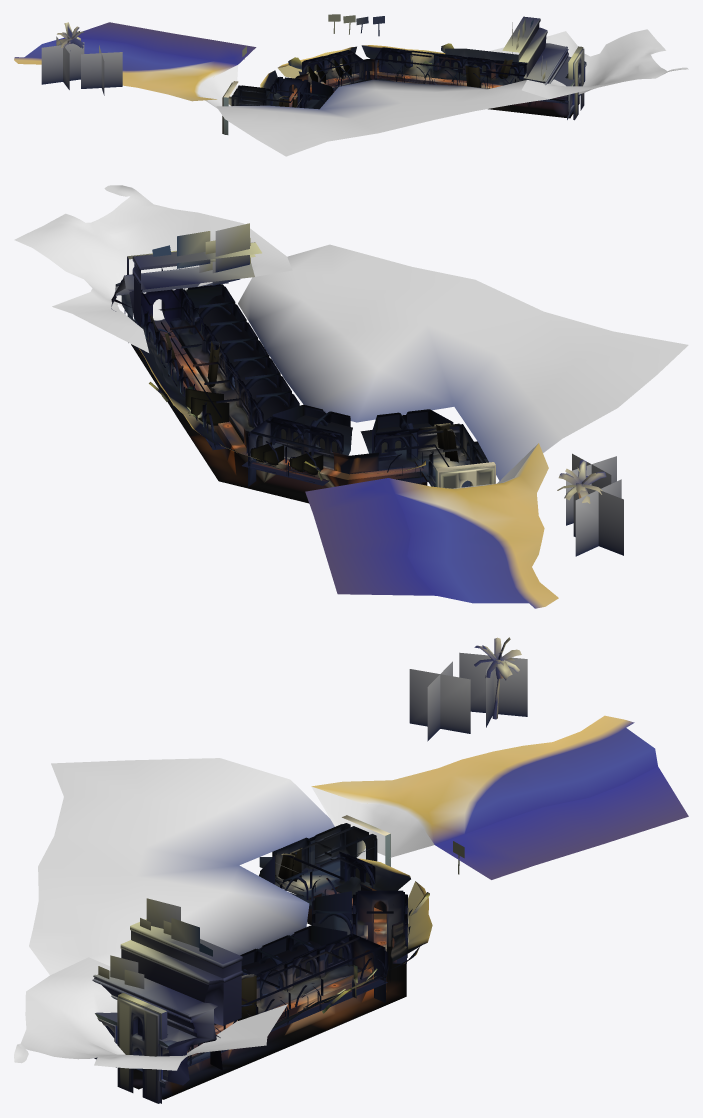
Rendered from 01Opening.gltf.
3 views of the same model, one above another, from view 1: azimuth 30°, elevation 25°; view 2: azimuth 150°, elevation 25°; view 3: azimuth 270°, elevation 25° (orthographic). The views are drawn at different scales.
Visible parts, largest first — view 1: stg013_o34_Mesh_0024.001, stg013_o08_Mesh_0001.001, stg013_o07_Mesh_0004.001, stg013_o08_Mesh_0000.001, stg013_p08_Mesh_0002.001, stg013_o07_Mesh_0002.001, stg013_sand_07_Mesh_0000.001, stg013_o34_Mesh_0023.001, stg013_o07_Mesh_0020.001, stg013_o07_Mesh_0014.001, stg013_o07_Mesh_0000.001, stg013_o07_Mesh_0031.001 (+11 smaller); view 2: stg013_o34_Mesh_0024.001, stg013_o08_Mesh_0001.001, stg013_o07_Mesh_0004.001, stg013_o08_Mesh_0000.001, stg013_sand_07_Mesh_0000.001, stg013_o07_Mesh_0002.001, stg013_o07_Mesh_0020.001, stg013_p08_Mesh_0002.001, stg013_o34_Mesh_0023.001, stg013_p34_Mesh_0000.001, stg013_a35_Mesh_0000, stg013_k07_Mesh_0001.001 (+11 smaller); view 3: stg013_o34_Mesh_0024.001, stg013_o08_Mesh_0001.001, stg013_o08_Mesh_0000.001, stg013_o07_Mesh_0002.001, stg013_o07_Mesh_0004.001, stg013_p08_Mesh_0002.001, stg013_o07_Mesh_0014.001, stg013_sand_07_Mesh_0000.001, stg013_o07_Mesh_0020.001, stg013_o34_Mesh_0023.001, stg013_o07_Mesh_0000.001, stg013_o07_Mesh_0012.001 (+9 smaller).
Part boxes in pixels (left/top/right/bottom): stg013_o34_Mesh_0024.001: left=198, top=29, right=688, bottom=156; stg013_o08_Mesh_0001.001: left=14, top=37, right=237, bottom=101; stg013_o07_Mesh_0004.001: left=231, top=47, right=580, bottom=114; stg013_o08_Mesh_0000.001: left=75, top=22, right=256, bottom=64; stg013_p08_Mesh_0002.001: left=41, top=36, right=122, bottom=95; stg013_o07_Mesh_0002.001: left=222, top=16, right=586, bottom=133; stg013_sand_07_Mesh_0000.001: left=260, top=45, right=565, bottom=109; stg013_o34_Mesh_0023.001: left=502, top=17, right=566, bottom=81; stg013_o07_Mesh_0020.001: left=242, top=44, right=568, bottom=101; stg013_o07_Mesh_0014.001: left=223, top=23, right=582, bottom=134; stg013_o07_Mesh_0000.001: left=279, top=43, right=585, bottom=106; stg013_o07_Mesh_0031.001: left=234, top=53, right=580, bottom=107; stg013_o34_Mesh_0024.001: left=14, top=185, right=688, bottom=487; stg013_o08_Mesh_0001.001: left=388, top=443, right=558, bottom=608; stg013_o07_Mesh_0004.001: left=134, top=284, right=486, bottom=487; stg013_o08_Mesh_0000.001: left=305, top=478, right=436, bottom=595; stg013_sand_07_Mesh_0000.001: left=139, top=294, right=432, bottom=479; stg013_o07_Mesh_0002.001: left=115, top=242, right=495, bottom=503; stg013_o07_Mesh_0020.001: left=146, top=286, right=480, bottom=463; stg013_p08_Mesh_0002.001: left=566, top=453, right=623, bottom=556; stg013_o34_Mesh_0023.001: left=124, top=243, right=261, bottom=291; stg013_p34_Mesh_0000.001: left=152, top=223, right=250, bottom=285; stg013_a35_Mesh_0000: left=141, top=318, right=532, bottom=488; stg013_k07_Mesh_0001.001: left=185, top=388, right=323, bottom=475; stg013_o34_Mesh_0024.001: left=14, top=758, right=434, bottom=1070; stg013_o08_Mesh_0001.001: left=311, top=715, right=657, bottom=844; stg013_o08_Mesh_0000.001: left=435, top=766, right=688, bottom=879; stg013_o07_Mesh_0002.001: left=92, top=834, right=406, bottom=1103; stg013_o07_Mesh_0004.001: left=131, top=823, right=408, bottom=1097; stg013_p08_Mesh_0002.001: left=409, top=652, right=527, bottom=741; stg013_o07_Mesh_0014.001: left=102, top=815, right=401, bottom=1046; stg013_sand_07_Mesh_0000.001: left=167, top=858, right=432, bottom=1060; stg013_o07_Mesh_0020.001: left=241, top=834, right=426, bottom=1009; stg013_o34_Mesh_0023.001: left=96, top=919, right=241, bottom=1015; stg013_o07_Mesh_0000.001: left=163, top=844, right=429, bottom=1085; stg013_o07_Mesh_0012.001: left=120, top=839, right=401, bottom=1102.
Size of the model in its own units: 343 by 66.24 by 255.
